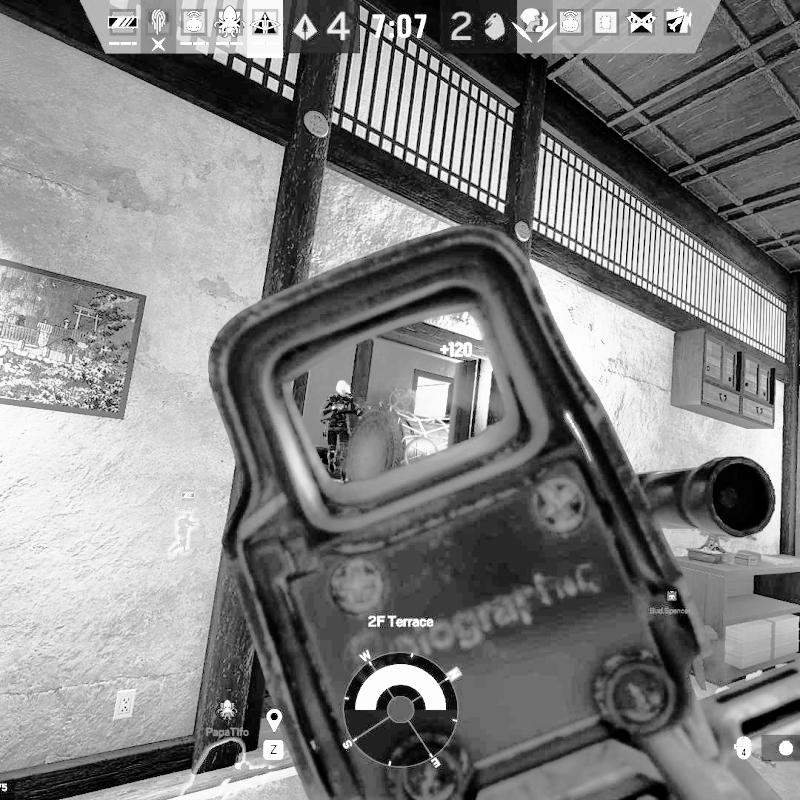Character: (317, 377, 364, 485)
Friend_label: (204, 694, 252, 740), (649, 586, 694, 617), (172, 490, 203, 515)
Head: (334, 379, 352, 399)
